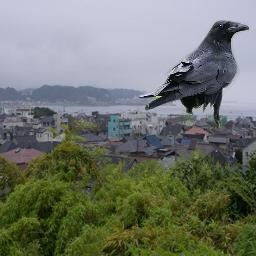Crow: (137, 20, 249, 129)
